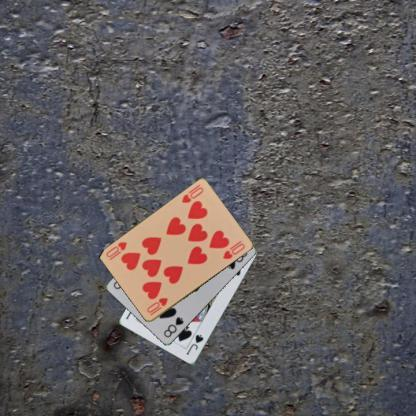10h: (144, 295, 170, 317), (180, 184, 204, 204)
8s: (162, 314, 184, 339)
Js: (183, 332, 205, 357)
